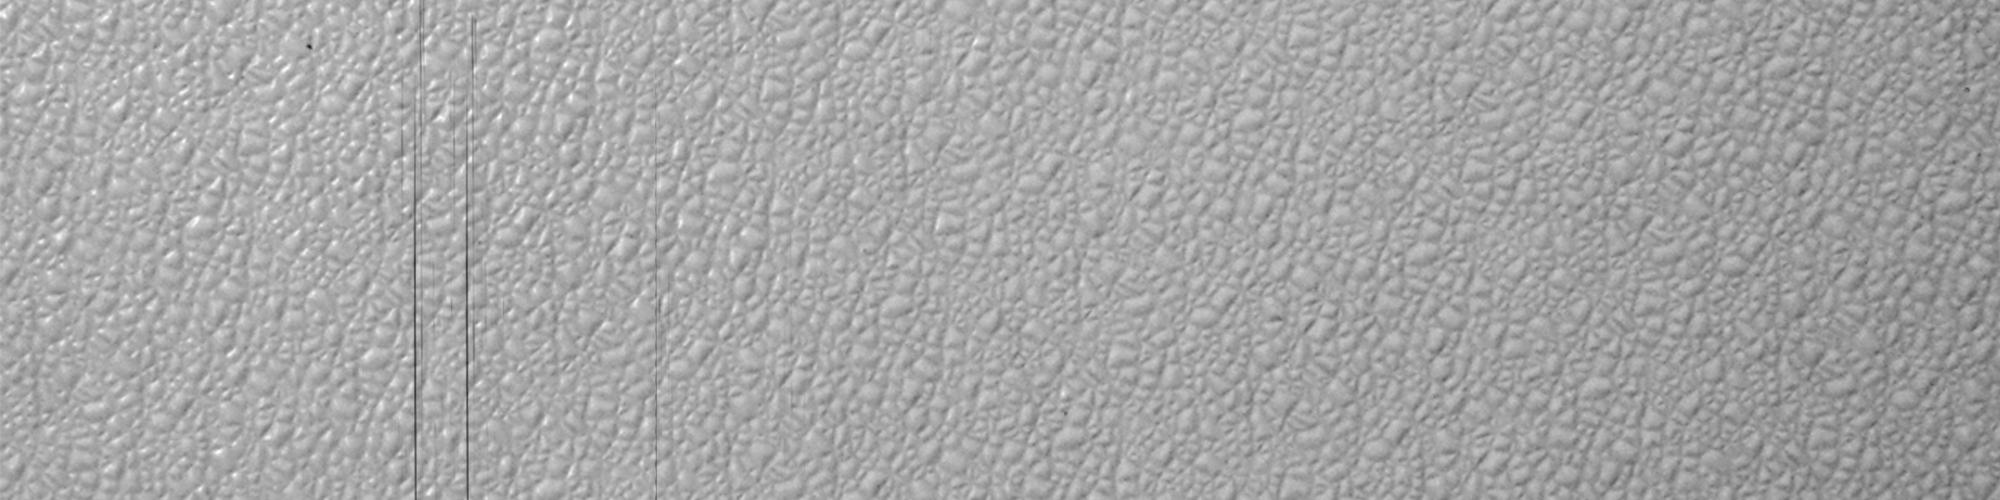DieDrag: (389, 3, 487, 499), (635, 77, 675, 499)
